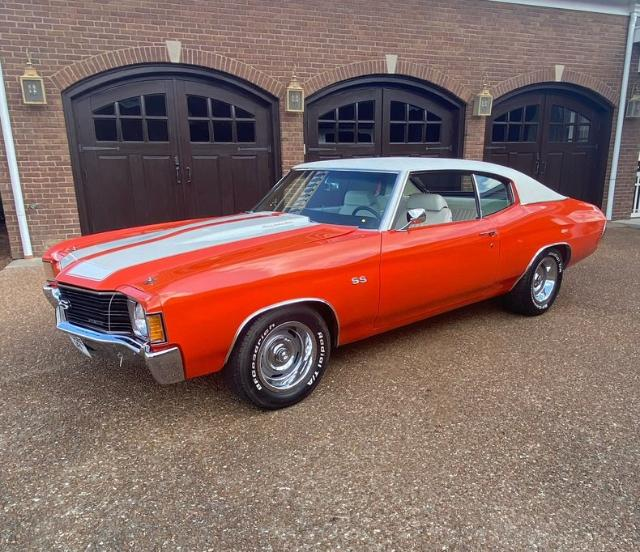chevelle-1972: (43, 158, 605, 409)
